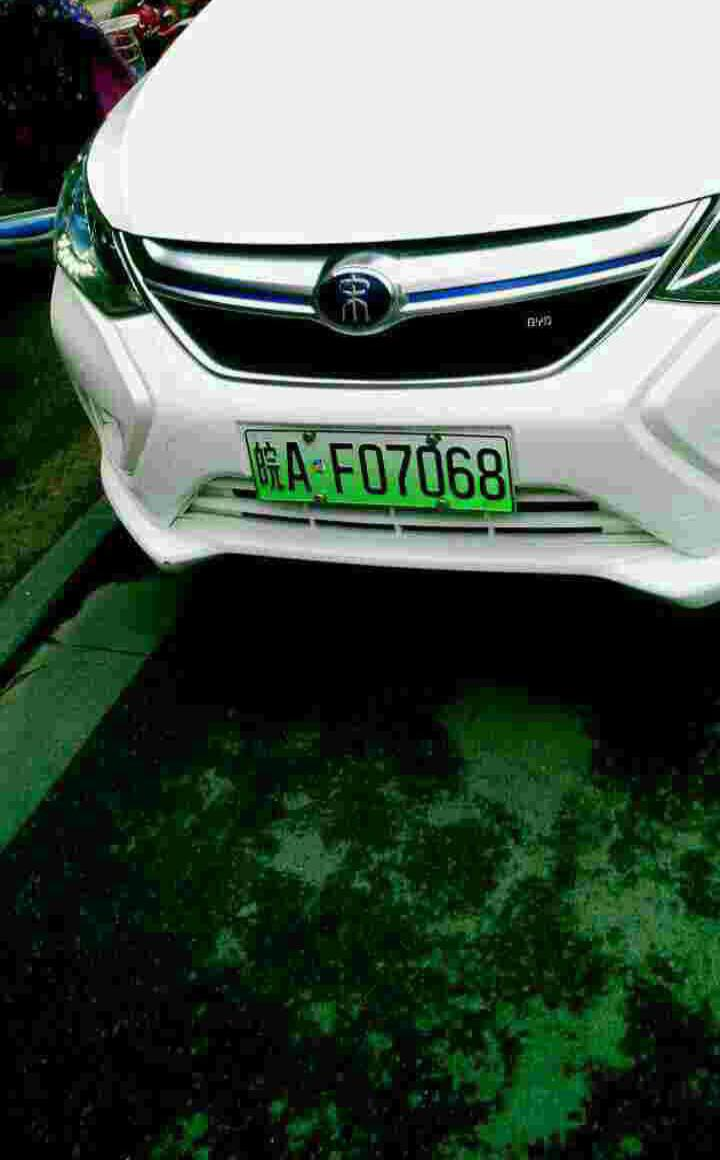car: (241, 419, 534, 530)
